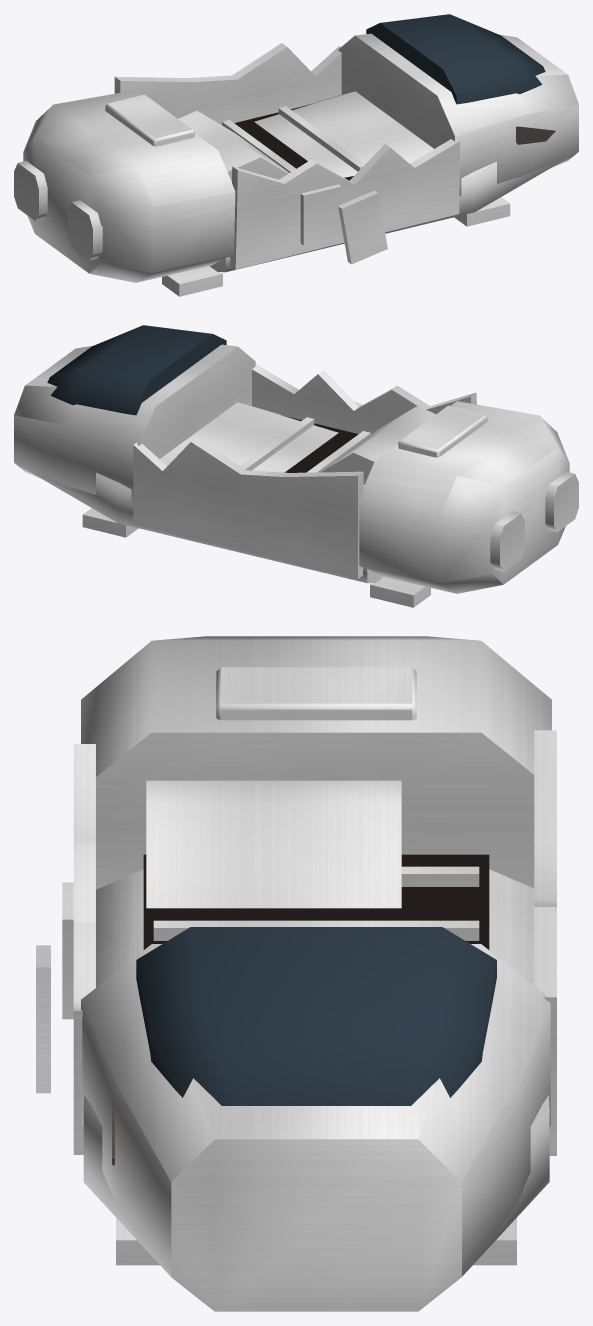
File: shuttle_crashed.obj
3 renders of one model, top to bottom at view 1: azimuth 30°, elevation 25°; view 2: azimuth 150°, elevation 25°; view 3: azimuth 270°, elevation 25°, orthographic. The views are drawn at different scales.
Parts seen in each view (by area): view 1: retained_0, retained_88, retained_188, retained_44, retained_220, retained_132, retained_308, retained_296, rear_roof_equipment_cover, retained_284, retained_332, retained_360 (+6 smaller); view 2: retained_0, retained_220, retained_88, retained_132, retained_44, retained_188, rear_roof_equipment_cover, retained_308, retained_360, retained_332, retained_400, retained_176 (+3 smaller); view 3: retained_88, retained_0, retained_132, retained_308, retained_44, rear_roof_equipment_cover, retained_176, retained_188, retained_220, retained_260, retained_296, retained_248 (+3 smaller).
Part boxes in pixels (bbox=[...]): retained_0: bbox=[23, 90, 235, 282]; retained_88: bbox=[338, 33, 578, 196]; retained_188: bbox=[230, 139, 460, 269]; retained_44: bbox=[210, 91, 577, 272]; retained_220: bbox=[114, 43, 341, 124]; retained_132: bbox=[366, 14, 545, 104]; retained_308: bbox=[178, 110, 289, 181]; retained_296: bbox=[338, 190, 387, 264]; rear_roof_equipment_cover: bbox=[105, 94, 194, 146]; retained_284: bbox=[300, 184, 341, 245]; retained_332: bbox=[68, 200, 102, 260]; retained_360: bbox=[14, 161, 47, 220]; retained_0: bbox=[359, 401, 569, 593]; retained_220: bbox=[133, 438, 363, 578]; retained_88: bbox=[14, 344, 255, 506]; retained_132: bbox=[47, 325, 226, 415]; retained_44: bbox=[15, 402, 382, 583]; retained_188: bbox=[252, 364, 476, 434]; rear_roof_equipment_cover: bbox=[398, 405, 487, 457]; retained_308: bbox=[320, 406, 435, 484]; retained_360: bbox=[490, 511, 524, 571]; retained_332: bbox=[545, 472, 578, 531]; retained_400: bbox=[370, 577, 430, 607]; retained_176: bbox=[282, 415, 358, 472]; retained_88: bbox=[81, 944, 550, 1311]; retained_0: bbox=[81, 636, 551, 889]; retained_132: bbox=[136, 927, 496, 1105]; retained_308: bbox=[146, 780, 401, 908]; retained_44: bbox=[83, 869, 549, 1275]; rear_roof_equipment_cover: bbox=[216, 667, 416, 720]; retained_176: bbox=[143, 854, 489, 949]; retained_188: bbox=[73, 744, 95, 1154]; retained_220: bbox=[534, 730, 556, 1155]; retained_260: bbox=[153, 920, 479, 940]; retained_296: bbox=[36, 945, 50, 1093]; retained_248: bbox=[401, 866, 479, 886].
Size of the model in its own units: 4.51 by 1.28 by 2.08.
